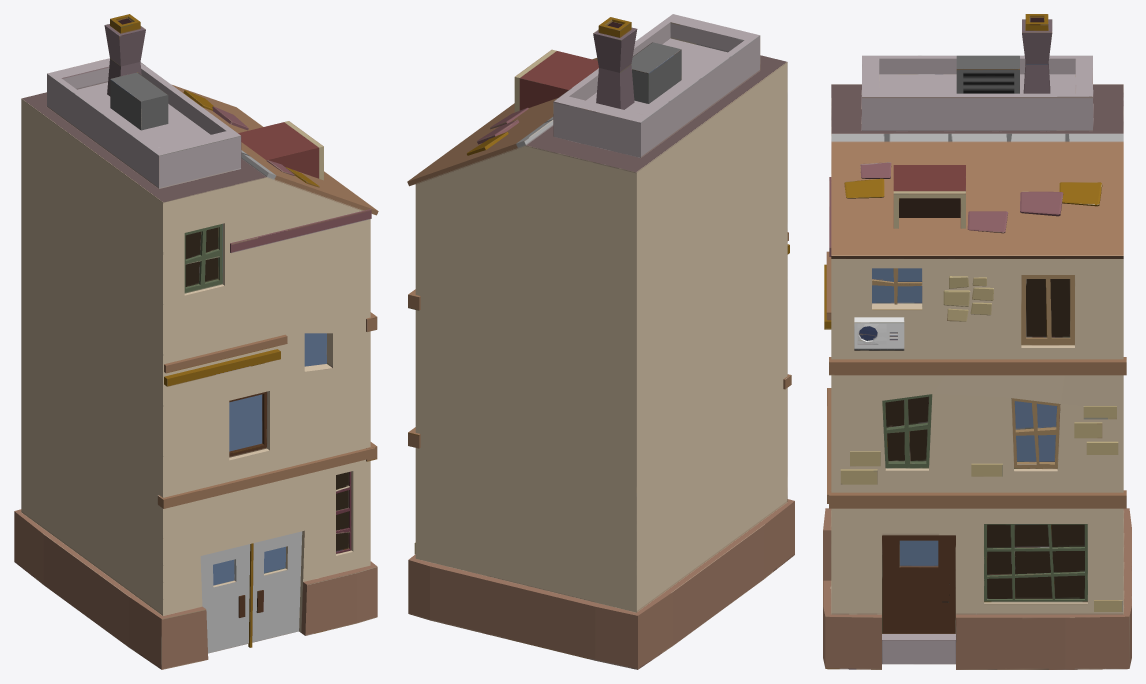
File: 大房子5-17.fbx
3 renders of one model, left to right at view 1: azimuth 30°, elevation 25°; view 2: azimuth 150°, elevation 25°; view 3: azimuth 270°, elevation 25°, orthographic. The views are drawn at different scales.
Visible parts, largest first — view 1: 立方体; view 2: 立方体; view 3: 立方体.
Part boxes in pixels (box(x1,y1,x2,y2)): 立方体: box(14, 14, 378, 669); 立方体: box(407, 14, 794, 669); 立方体: box(823, 14, 1131, 669).
Size of the model in its own units: 736 by 1769 by 856.
1 material, 1 textured.
